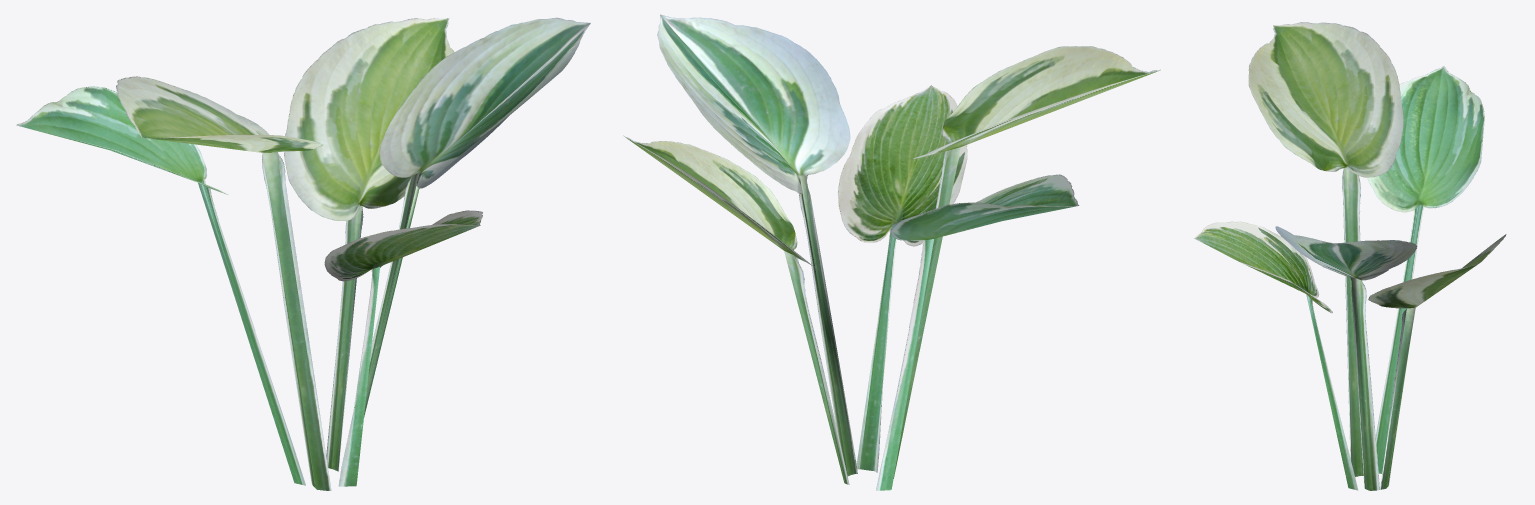
Rendered from plant_small_wg_00Q_wild.fbx.
The picture shows the model from 3 angles, left to right: view 1: azimuth 30°, elevation 25°; view 2: azimuth 150°, elevation 25°; view 3: azimuth 270°, elevation 25°; orthographic projection. The views are drawn at different scales.
Parts seen in each view (by area): view 1: plant_small_wg_00Q_wild; view 2: plant_small_wg_00Q_wild; view 3: plant_small_wg_00Q_wild.
Boxes of the visible parts, box(x1,y1,x2,y2) form: plant_small_wg_00Q_wild: box(16, 17, 590, 490); plant_small_wg_00Q_wild: box(623, 14, 1160, 490); plant_small_wg_00Q_wild: box(1194, 22, 1506, 490).
Size of the model in its own units: 45.81 by 40.21 by 31.58.
